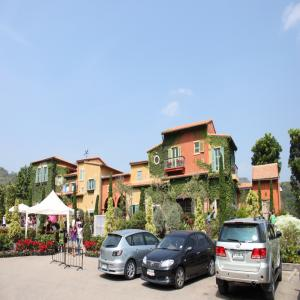Vehicle-registration-plate: (234, 251, 245, 261), (149, 269, 155, 275)
